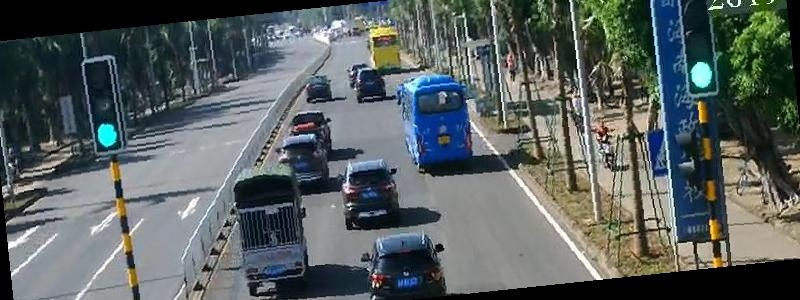green: (92, 121, 121, 149), (688, 60, 714, 91)
